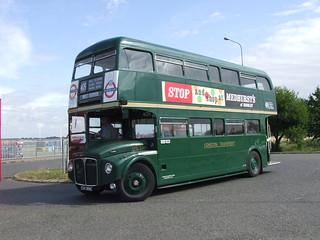bus: (60, 32, 281, 203)
